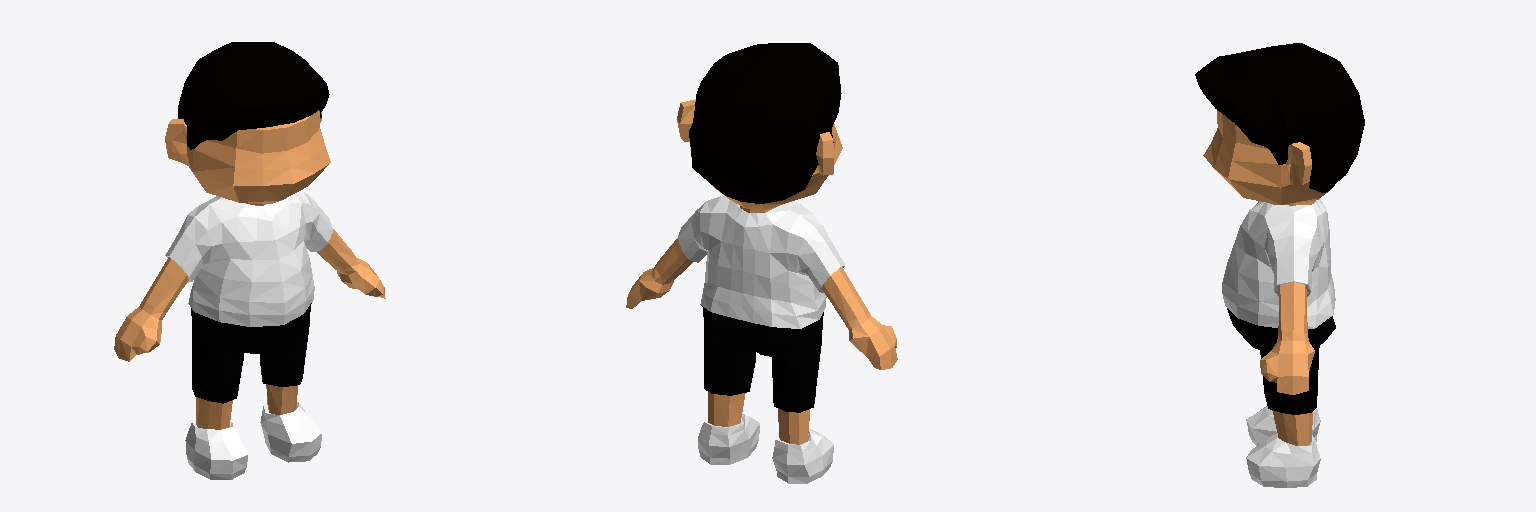
The model's file is Player_B.obj.
3 renders of one model, left to right at view 1: azimuth 30°, elevation 25°; view 2: azimuth 150°, elevation 25°; view 3: azimuth 270°, elevation 25°, orthographic.
Parts seen in each view (by area): view 1: Player_B; view 2: Player_B; view 3: Player_B.
Boxes of the visible parts, x1=… form: Player_B: x1=114, y1=42, x2=385, y2=479; Player_B: x1=626, y1=43, x2=897, y2=483; Player_B: x1=1195, y1=43, x2=1364, y2=487.
Size of the model in its own units: 3.88 by 5.81 by 2.19.